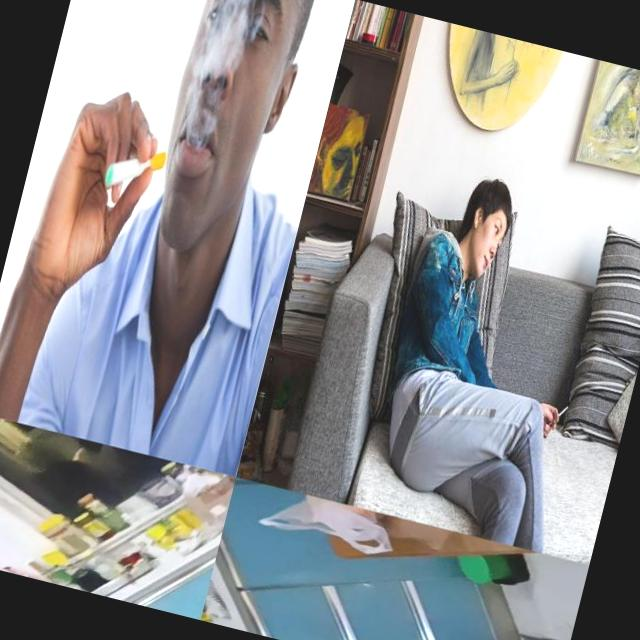cigarette: (101, 138, 168, 201), (548, 401, 569, 430)
